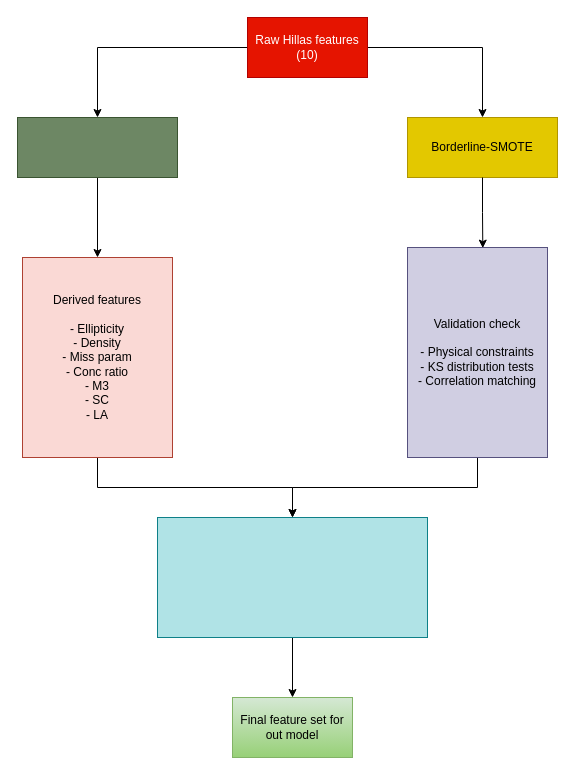
Image size: 575x775. Some labels were removed from this diagram. Each missing label, with the centre of its shape:
Feature selection - SHAP - mutual info - correlation filtering: pixel 292 577
Physics-informed features (7): pixel 97 147
